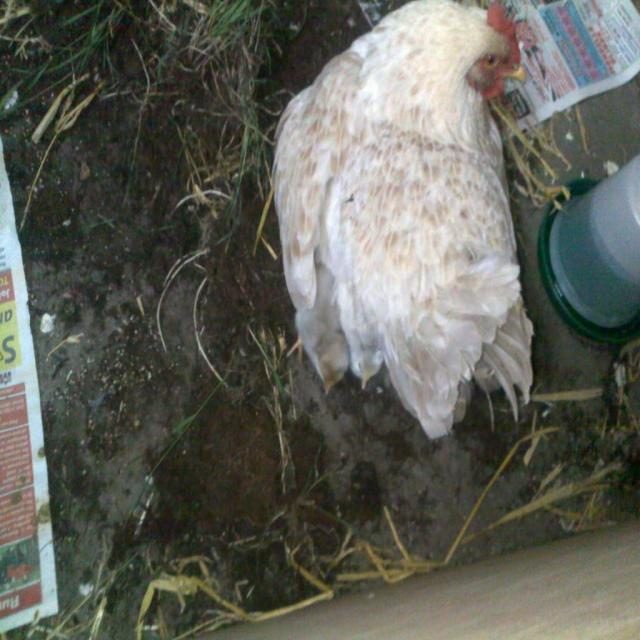Chicken: (276, 18, 526, 442)
